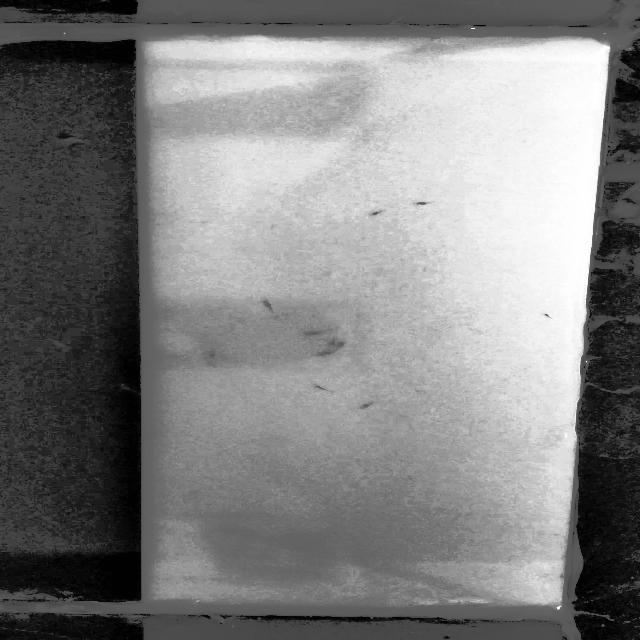shrimp: (352, 203, 396, 224), (400, 195, 442, 212), (352, 396, 382, 417), (192, 346, 225, 364), (252, 296, 284, 314), (530, 308, 565, 322), (296, 324, 325, 340), (308, 348, 343, 361), (302, 380, 330, 394), (338, 339, 361, 350), (328, 338, 338, 347)
